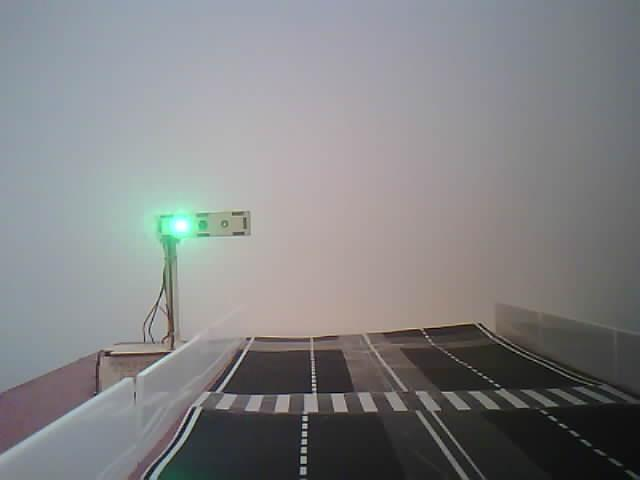crosswalk: (172, 374, 640, 427)
green: (146, 189, 270, 297)
